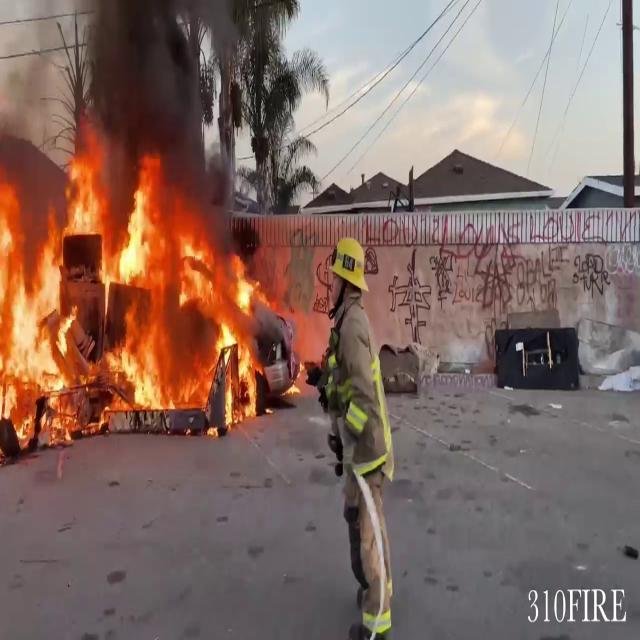Fire: (0, 141, 272, 443)
Smoke: (0, 0, 234, 205)
